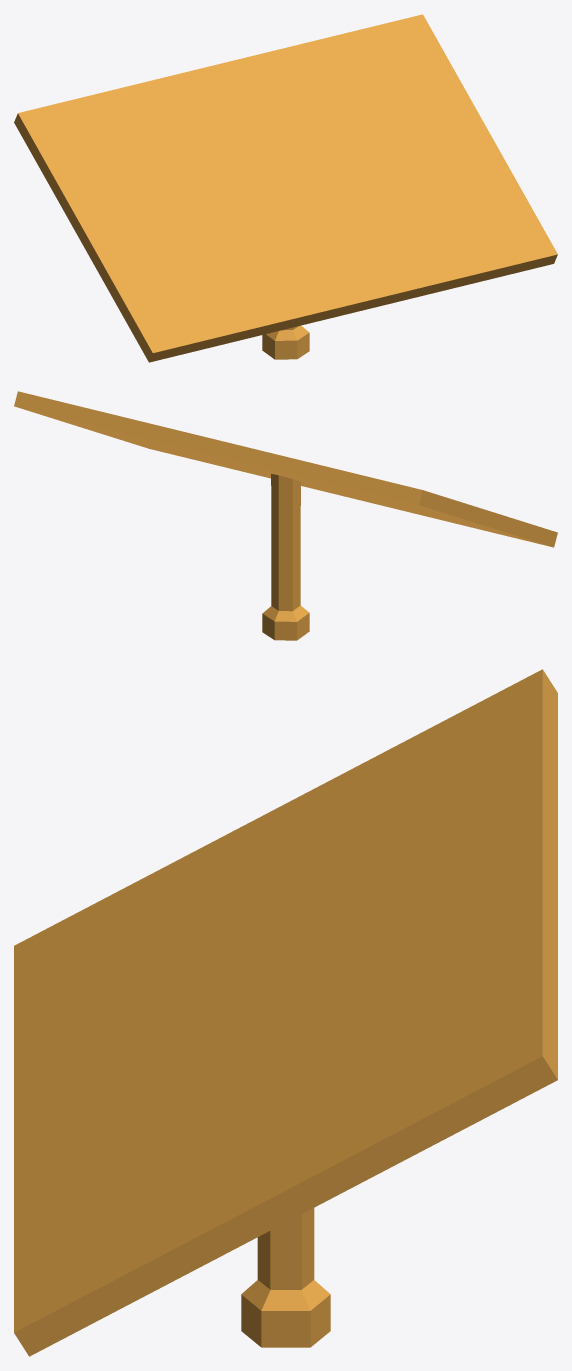
File: solar-panel.fbx
3 renders of one model, top to bottom at view 1: azimuth 30°, elevation 25°; view 2: azimuth 150°, elevation 25°; view 3: azimuth 270°, elevation 25°, orthographic. The views are drawn at different scales.
Visible parts, largest first — view 1: solar-panel; view 2: solar-panel; view 3: solar-panel.
Boxes of the visible parts, x1=… form: solar-panel: x1=14, y1=14, x2=557, y2=362; solar-panel: x1=14, y1=391, x2=557, y2=640; solar-panel: x1=14, y1=669, x2=557, y2=1356.
Bounding box in the file's own units: 3 × 1.69 × 1.78.
